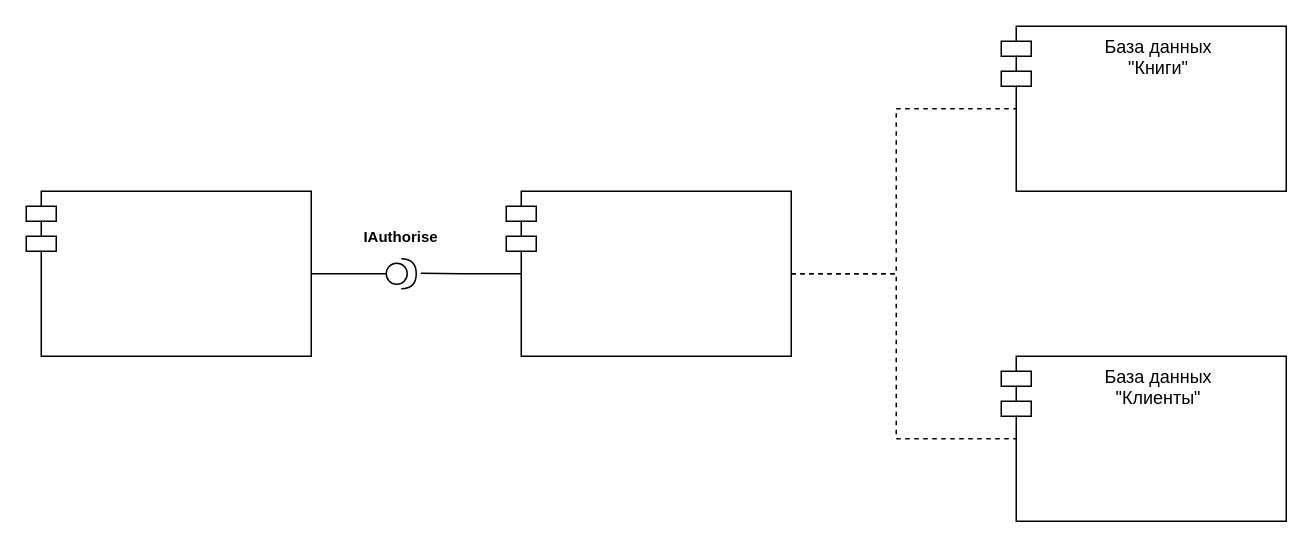
The diagram is 1313 pixels wide and 548 high, and some of its shapes have lost their labels. Each missing label, with the centre of its shape:
Клиентское приложение "КнигоУчёт.exe": point 168,273
Основной сервер "main.exe": point 648,273
